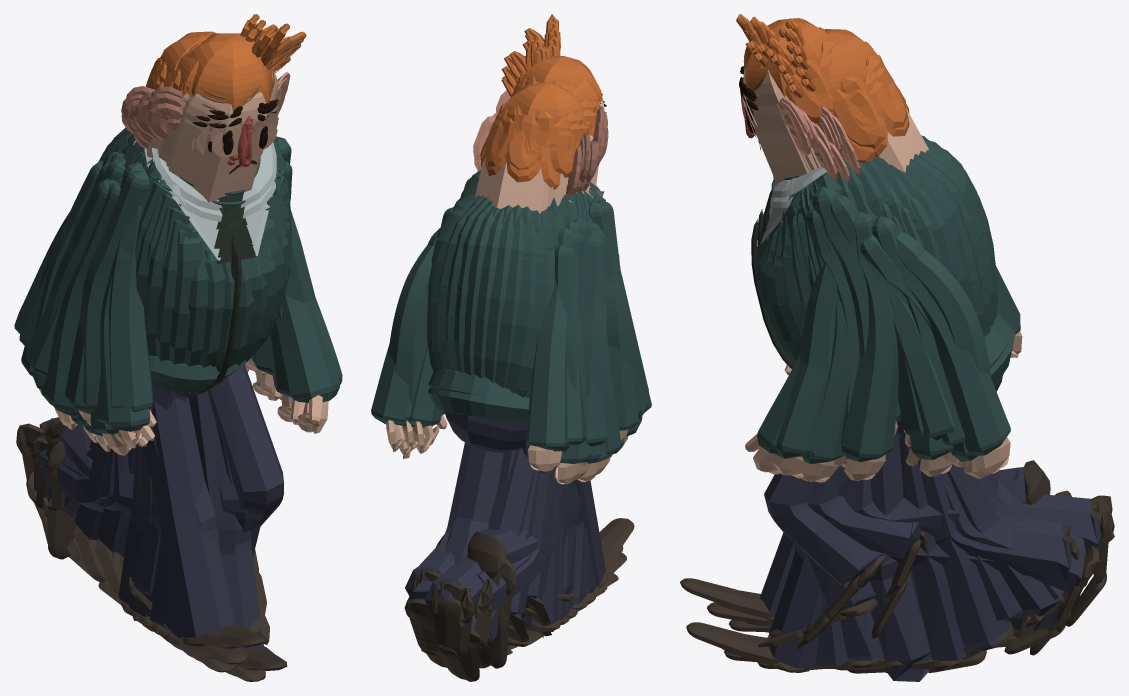
File: Dadwalk.fbx
3 views of the same model, side by side, from view 1: azimuth 30°, elevation 25°; view 2: azimuth 150°, elevation 25°; view 3: azimuth 270°, elevation 25° (orthographic). The views are drawn at different scales.
Visible parts, largest first — view 1: Dad; view 2: Dad; view 3: Dad.
Boxes of the visible parts, x1,y1,x2,y2 form: Dad: (14,14,342,681); Dad: (371,14,651,681); Dad: (680,14,1114,681).
Size of the model in its own units: 1.16 by 3.01 by 1.77.
